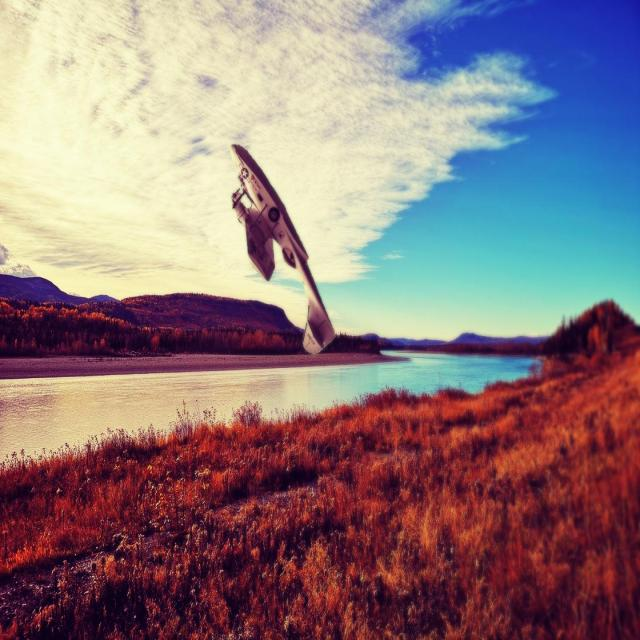airplane: (230, 143, 336, 354)
